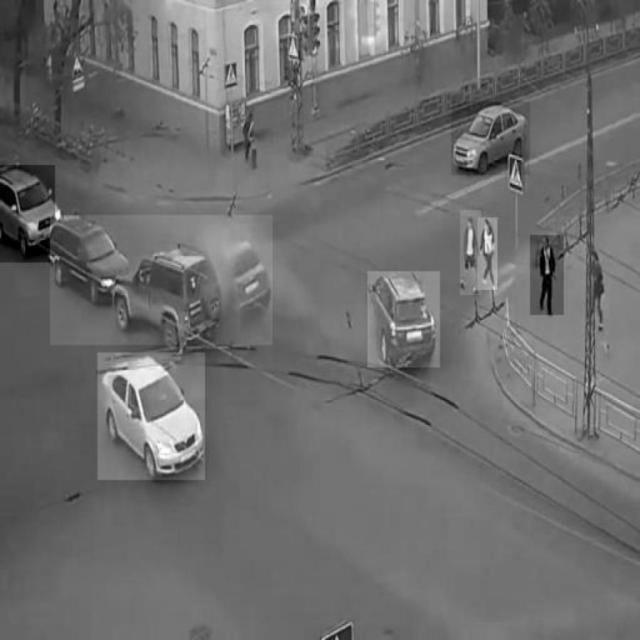accident: (51, 215, 273, 346)
person: (530, 235, 564, 316), (461, 210, 481, 294), (478, 218, 498, 291)
vehicle: (98, 352, 206, 480), (368, 272, 440, 368), (452, 102, 530, 175), (1, 165, 56, 263)
